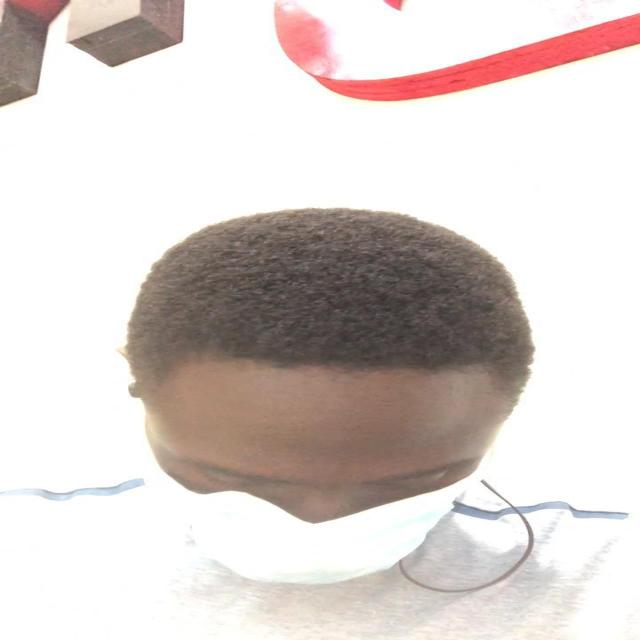face: (142, 386, 518, 584)
